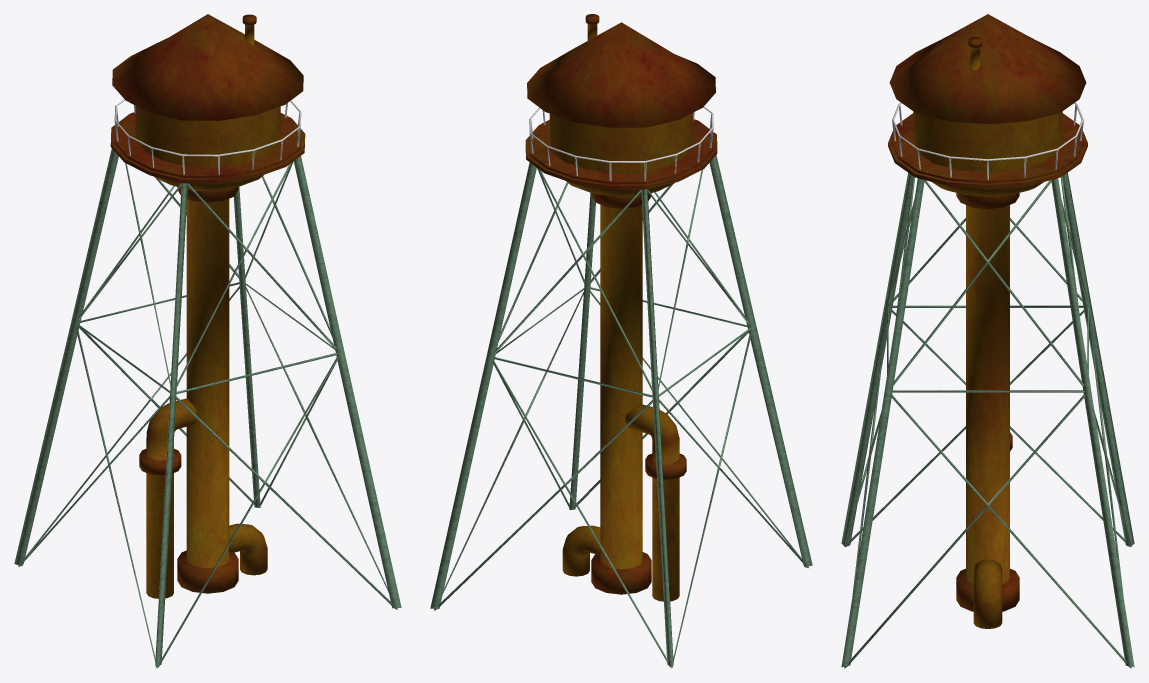
The model's file is Water Tower.fbx.
3 views of the same model, side by side, from view 1: azimuth 30°, elevation 25°; view 2: azimuth 150°, elevation 25°; view 3: azimuth 270°, elevation 25° (orthographic). The views are drawn at different scales.
Visible parts, largest first — view 1: Cube.007, Pipe Long.002, Cube.006, Cube.003, Pipe Elbow.009, Cube.004, Pipe Elbow.002, Cube.005; view 2: Cube.007, Pipe Long.002, Cube.006, Cube.003, Pipe Elbow.009, Cube.004, Pipe Elbow.002, Cube.005; view 3: Cube.007, Pipe Long.002, Cube.006, Cube.003, Cube.004, Pipe Elbow.002, Cube.005.
Part boxes in pixels (bbox=[...]): Cube.007: bbox=[14, 148, 401, 668]; Pipe Long.002: bbox=[177, 187, 238, 593]; Cube.006: bbox=[112, 14, 303, 120]; Cube.003: bbox=[135, 105, 280, 191]; Pipe Elbow.009: bbox=[139, 398, 197, 598]; Cube.004: bbox=[110, 112, 305, 183]; Pipe Elbow.002: bbox=[228, 523, 267, 575]; Cube.005: bbox=[114, 99, 301, 174]; Cube.007: bbox=[430, 155, 812, 668]; Pipe Long.002: bbox=[591, 193, 651, 594]; Cube.006: bbox=[527, 22, 715, 127]; Cube.003: bbox=[549, 113, 693, 197]; Pipe Elbow.009: bbox=[625, 404, 686, 601]; Cube.004: bbox=[525, 119, 717, 189]; Pipe Elbow.002: bbox=[562, 525, 601, 576]; Cube.005: bbox=[529, 106, 713, 181]; Cube.007: bbox=[841, 172, 1134, 668]; Pipe Long.002: bbox=[956, 193, 1019, 611]; Cube.006: bbox=[889, 14, 1086, 124]; Cube.003: bbox=[913, 111, 1062, 196]; Cube.004: bbox=[888, 113, 1087, 188]; Pipe Elbow.002: bbox=[973, 559, 1002, 628]; Cube.005: bbox=[892, 102, 1083, 179].
Bounding box in the file's own units: 1073 × 2399 × 1073.
